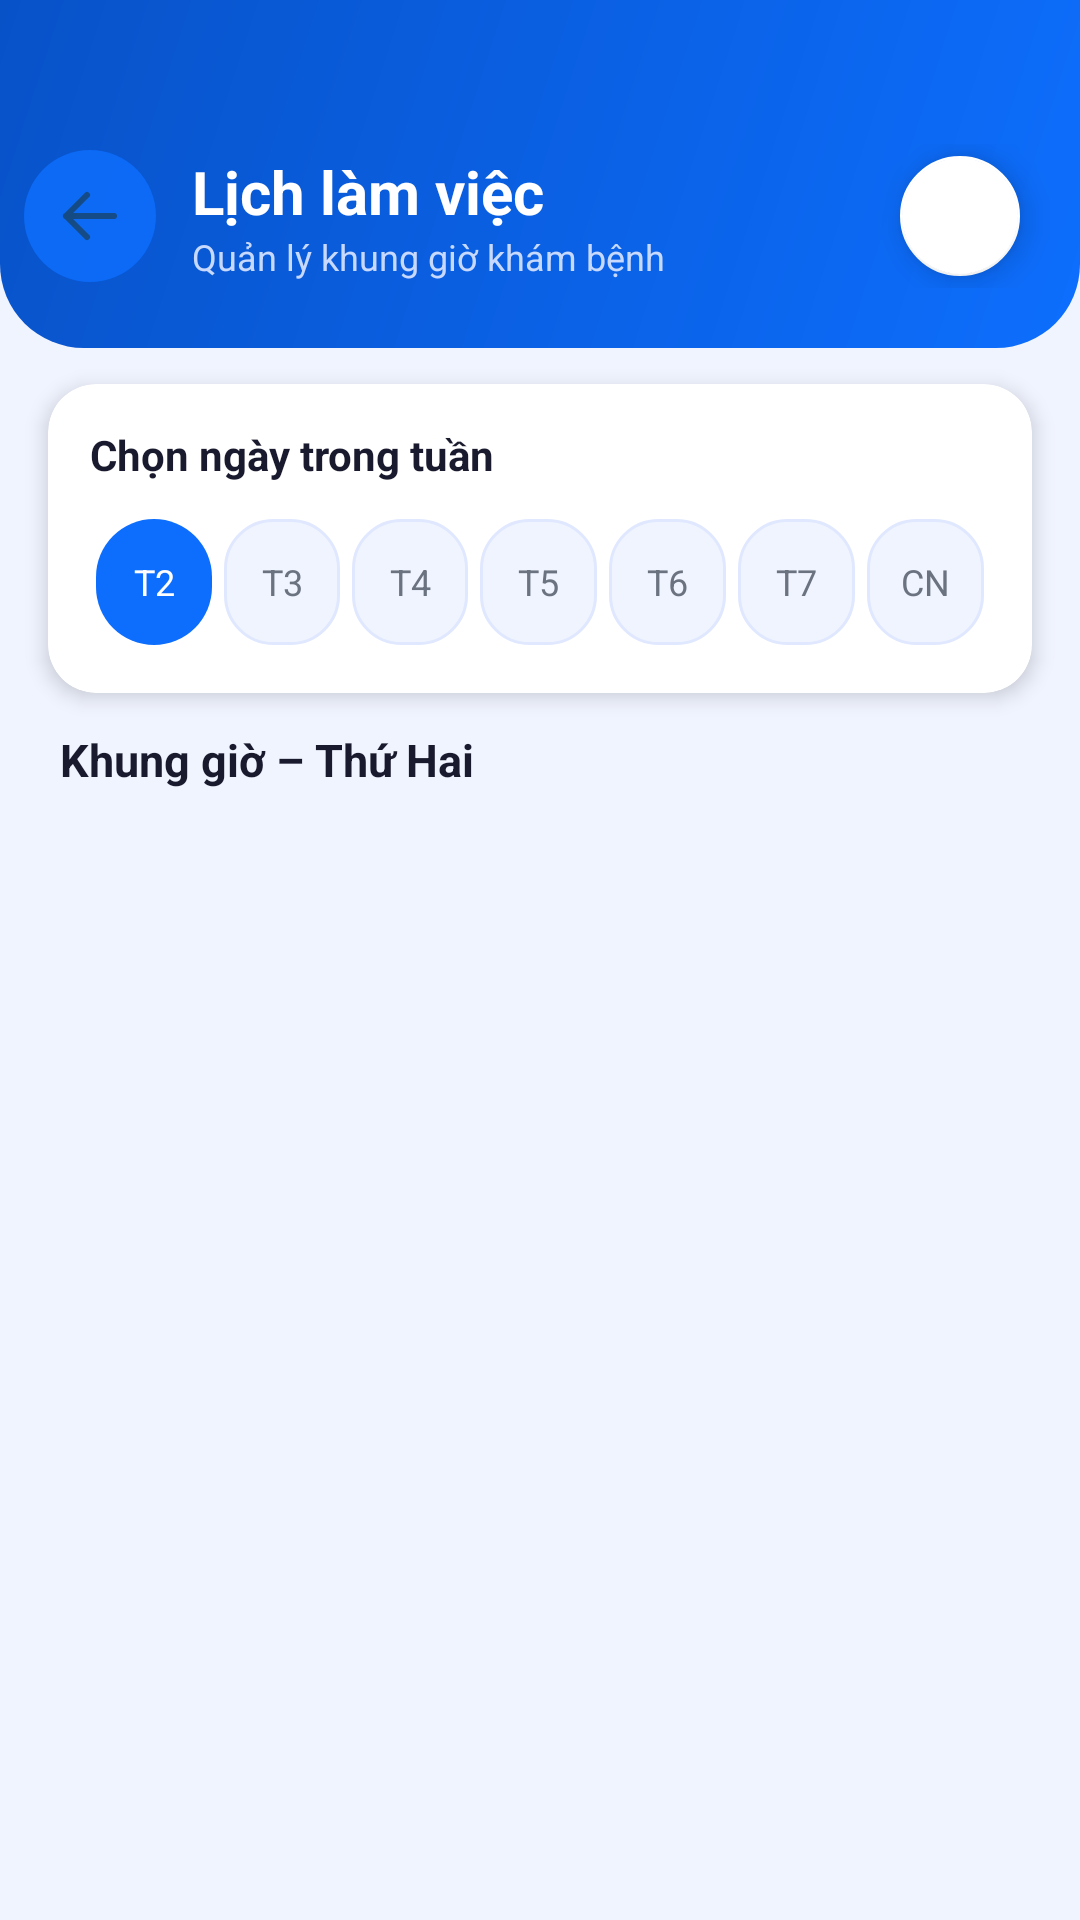

Icon bounding boxes for this 1080x1920 phone screenshot, format (x1, y1, x2, y2):
Quay lại: (24, 150, 156, 282)
